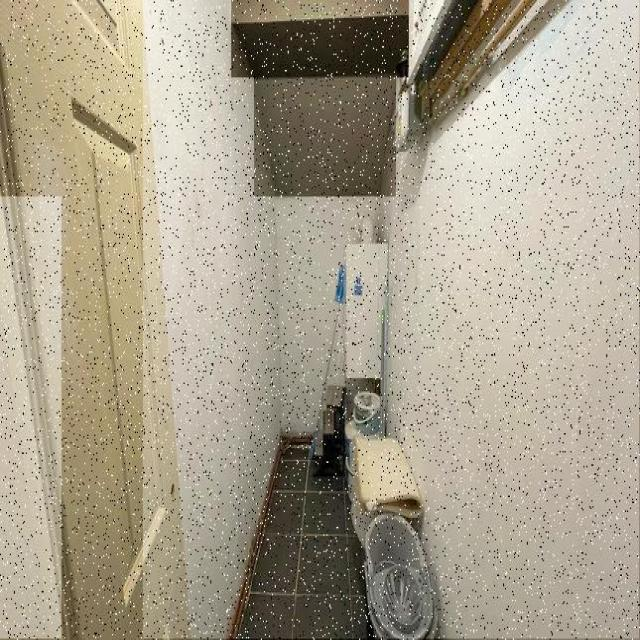Wall: (144, 0, 639, 639), (0, 197, 62, 639), (239, 441, 370, 637), (254, 75, 396, 196), (231, 1, 409, 77)
